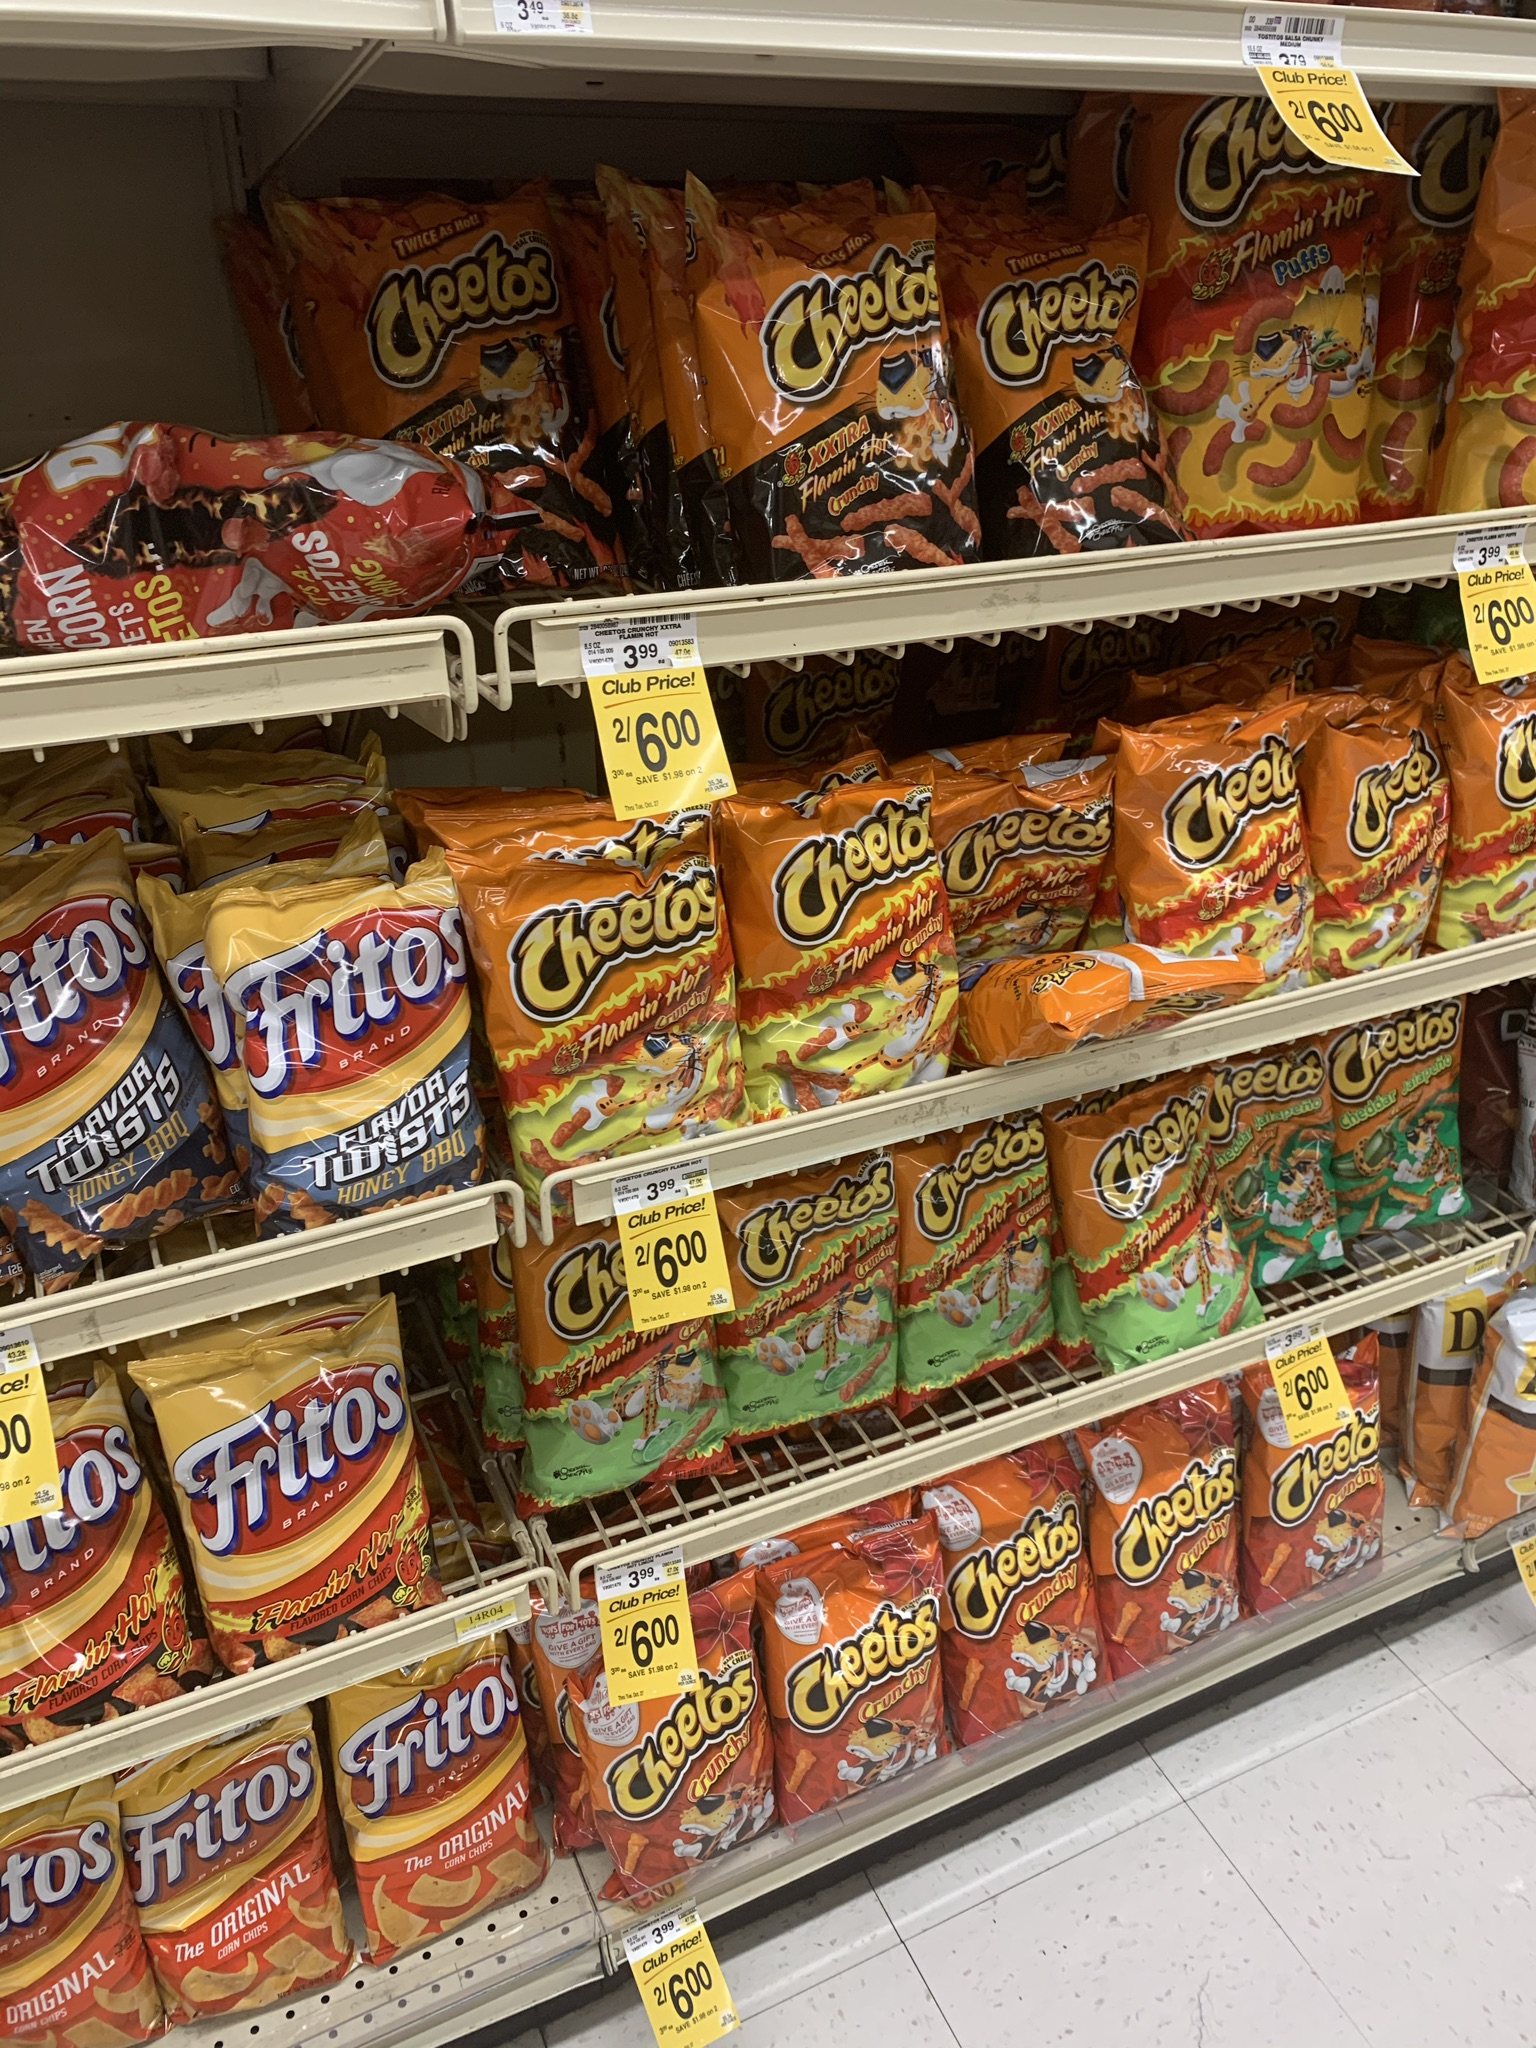chip: (305, 205, 626, 608), (678, 187, 975, 566), (160, 1305, 428, 1679), (1158, 106, 1376, 560), (471, 842, 741, 1151), (205, 892, 457, 1184), (323, 1679, 560, 1961), (733, 805, 958, 1098), (123, 1732, 350, 2016), (750, 1527, 945, 1834), (975, 219, 1160, 534), (1113, 718, 1313, 1000), (933, 1461, 1104, 1775), (573, 1632, 766, 1900), (1307, 689, 1446, 989), (1097, 1414, 1242, 1698), (532, 1240, 716, 1459), (1239, 1355, 1391, 1609), (739, 1184, 884, 1432), (907, 1130, 1033, 1408), (1347, 1000, 1468, 1272), (1105, 1093, 1192, 1371), (1225, 1047, 1317, 1298)
